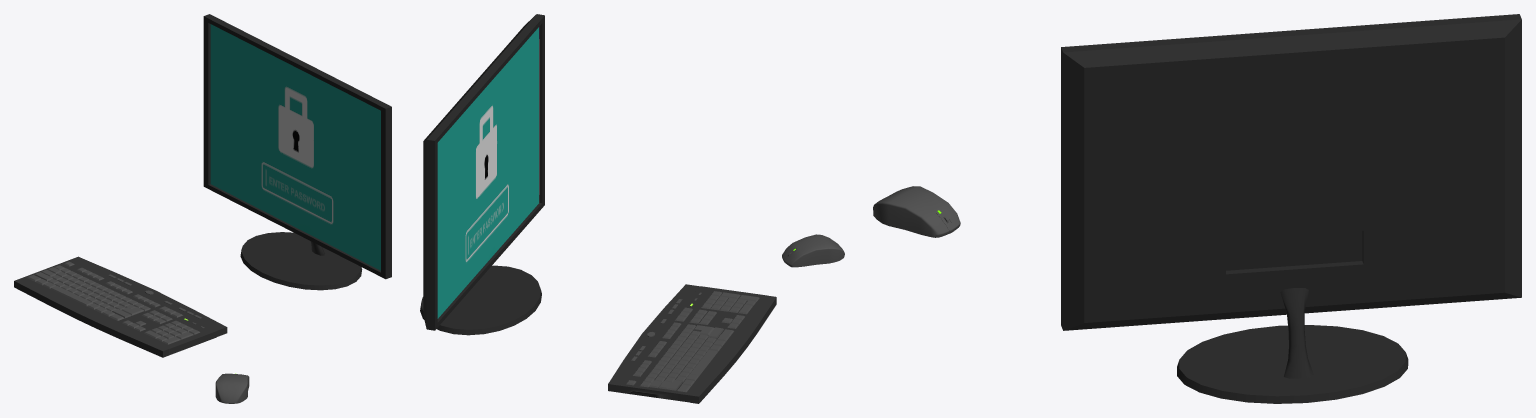
File: FindUnlocked_interactable_L1_PC_v5.gltf
3 views of the same model, side by side, from view 1: azimuth 30°, elevation 25°; view 2: azimuth 150°, elevation 25°; view 3: azimuth 270°, elevation 25° (orthographic). The views are drawn at different scales.
Parts seen in each view (by area): view 1: FU_interactable_Level1_PC; view 2: FU_interactable_Level1_PC; view 3: FU_interactable_Level1_PC.
Boxes of the visible parts, left/top/right/bottom form: FU_interactable_Level1_PC: left=14, top=14, right=391, bottom=403; FU_interactable_Level1_PC: left=420, top=14, right=844, bottom=403; FU_interactable_Level1_PC: left=873, top=14, right=1521, bottom=403.
Size of the model in its own units: 2.59 by 1.75 by 3.11.
7 materials, 1 textured.
